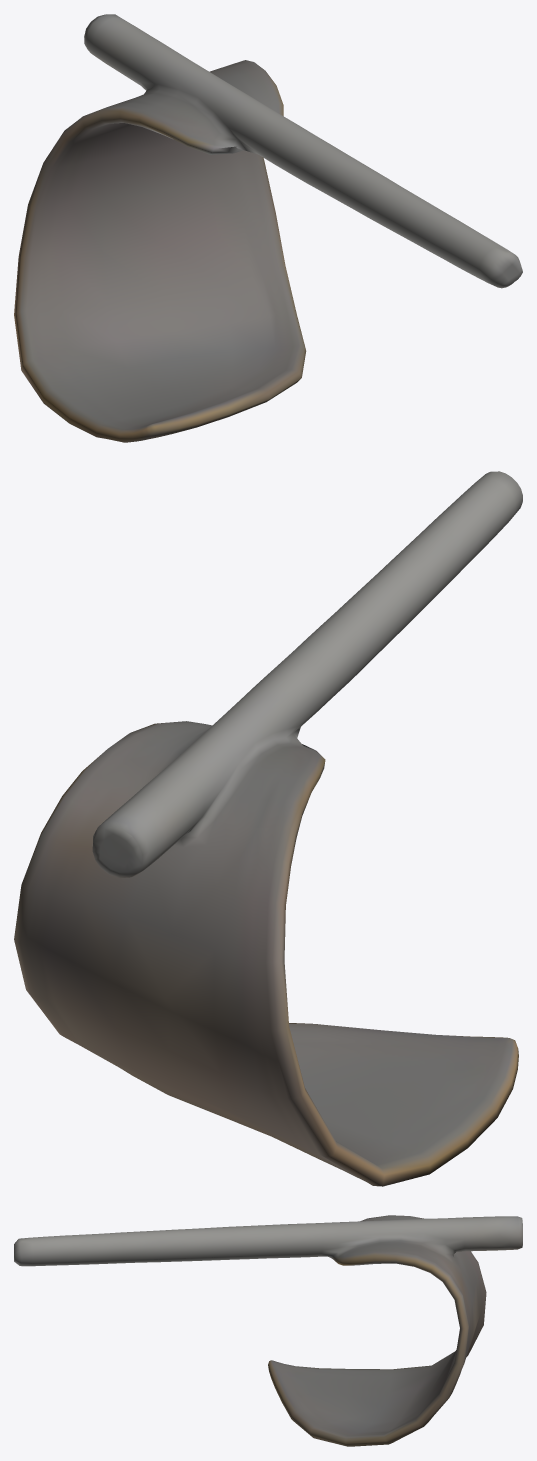
Rendered from 6239925-bench-modern.glb.
The picture shows the model from 3 angles, top to bottom: view 1: azimuth 30°, elevation 25°; view 2: azimuth 150°, elevation 25°; view 3: azimuth 270°, elevation 25°; orthographic projection. The views are drawn at different scales.
Visible parts, largest first — view 1: Retopo_neural_node_88102e31-f4ae-454c-997d-1669e3e6225a; view 2: Retopo_neural_node_88102e31-f4ae-454c-997d-1669e3e6225a; view 3: Retopo_neural_node_88102e31-f4ae-454c-997d-1669e3e6225a.
Part boxes in pixels (<box>): Retopo_neural_node_88102e31-f4ae-454c-997d-1669e3e6225a: <box>14,14,522,442</box>; Retopo_neural_node_88102e31-f4ae-454c-997d-1669e3e6225a: <box>14,471,522,1186</box>; Retopo_neural_node_88102e31-f4ae-454c-997d-1669e3e6225a: <box>14,1215,522,1446</box>.
Bounding box in the file's own units: 0.4203 × 0.4387 × 0.9488.
